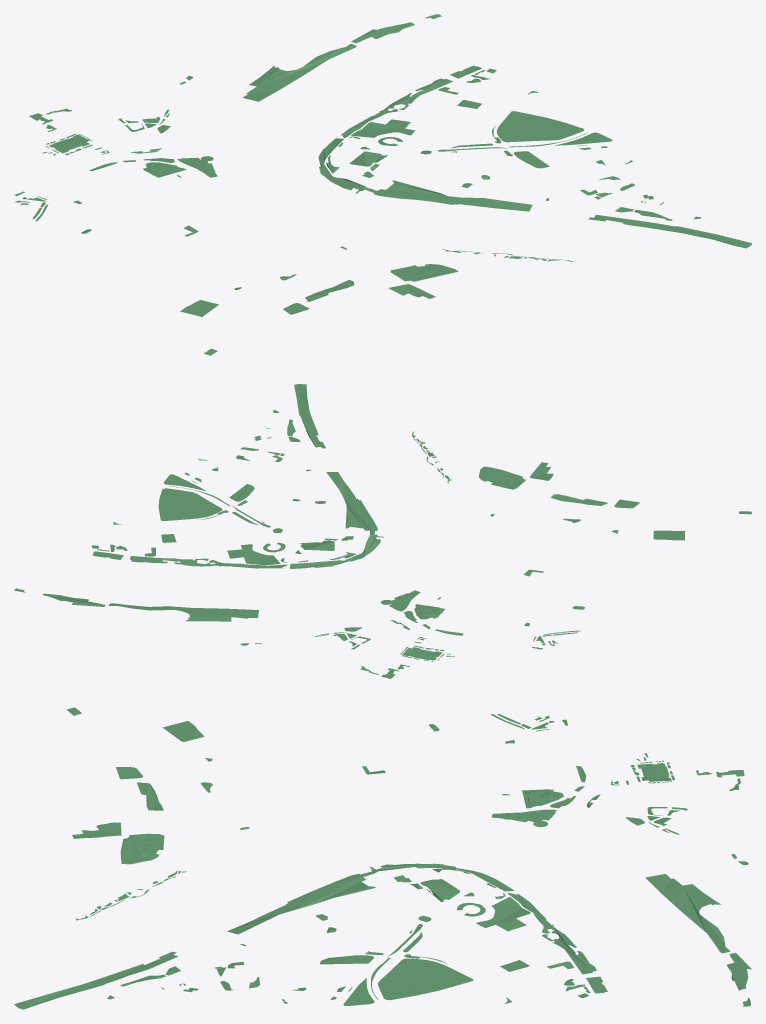
The model's file is green.glb.
3 renders of one model, top to bottom at view 1: azimuth 30°, elevation 25°; view 2: azimuth 150°, elevation 25°; view 3: azimuth 270°, elevation 25°, orthographic. The views are drawn at different scales.
Visible parts, largest first — view 1: green; view 2: green; view 3: green.
Part boxes in pixels (bbox=[...]): green: bbox=[14, 14, 751, 355]; green: bbox=[14, 384, 751, 678]; green: bbox=[14, 707, 751, 1009].
Size of the model in its own units: 2722 by 25.56 by 2829.
